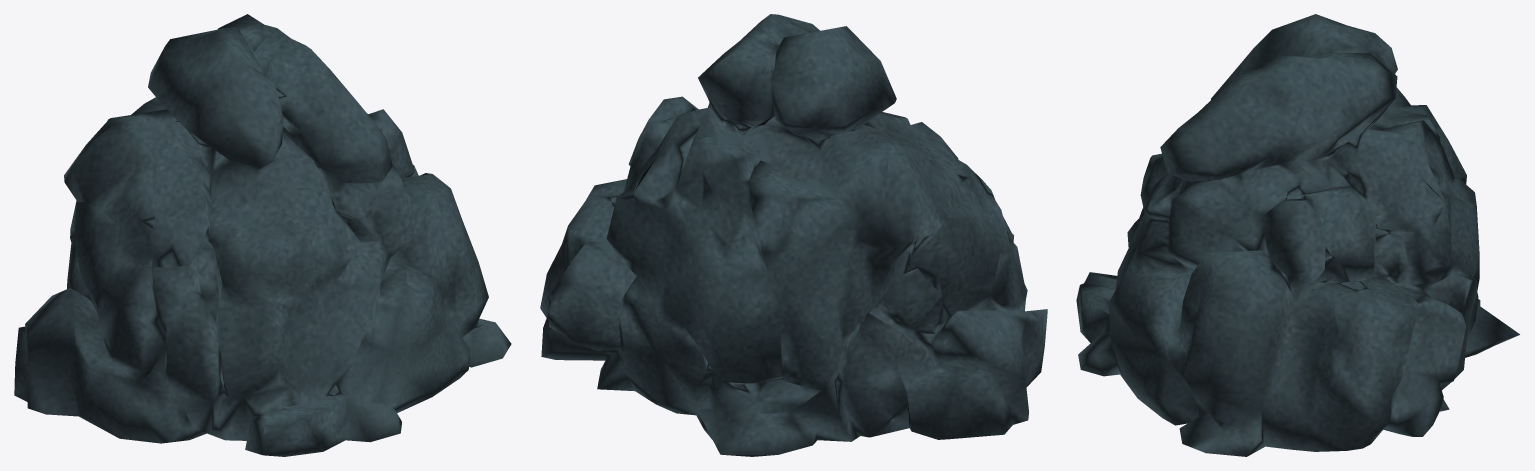
The model's file is rock.glb.
3 renders of one model, left to right at view 1: azimuth 30°, elevation 25°; view 2: azimuth 150°, elevation 25°; view 3: azimuth 270°, elevation 25°, orthographic. The views are drawn at different scales.
Visible parts, largest first — view 1: Mesh_0.001; view 2: Mesh_0.001; view 3: Mesh_0.001.
Part boxes in pixels (left/top/right/bottom): Mesh_0.001: left=14, top=14, right=511, bottom=456; Mesh_0.001: left=540, top=14, right=1047, bottom=456; Mesh_0.001: left=1076, top=14, right=1519, bottom=456.
Size of the model in its own units: 1.92 by 1.38 by 1.71.
1 material, 1 textured.
